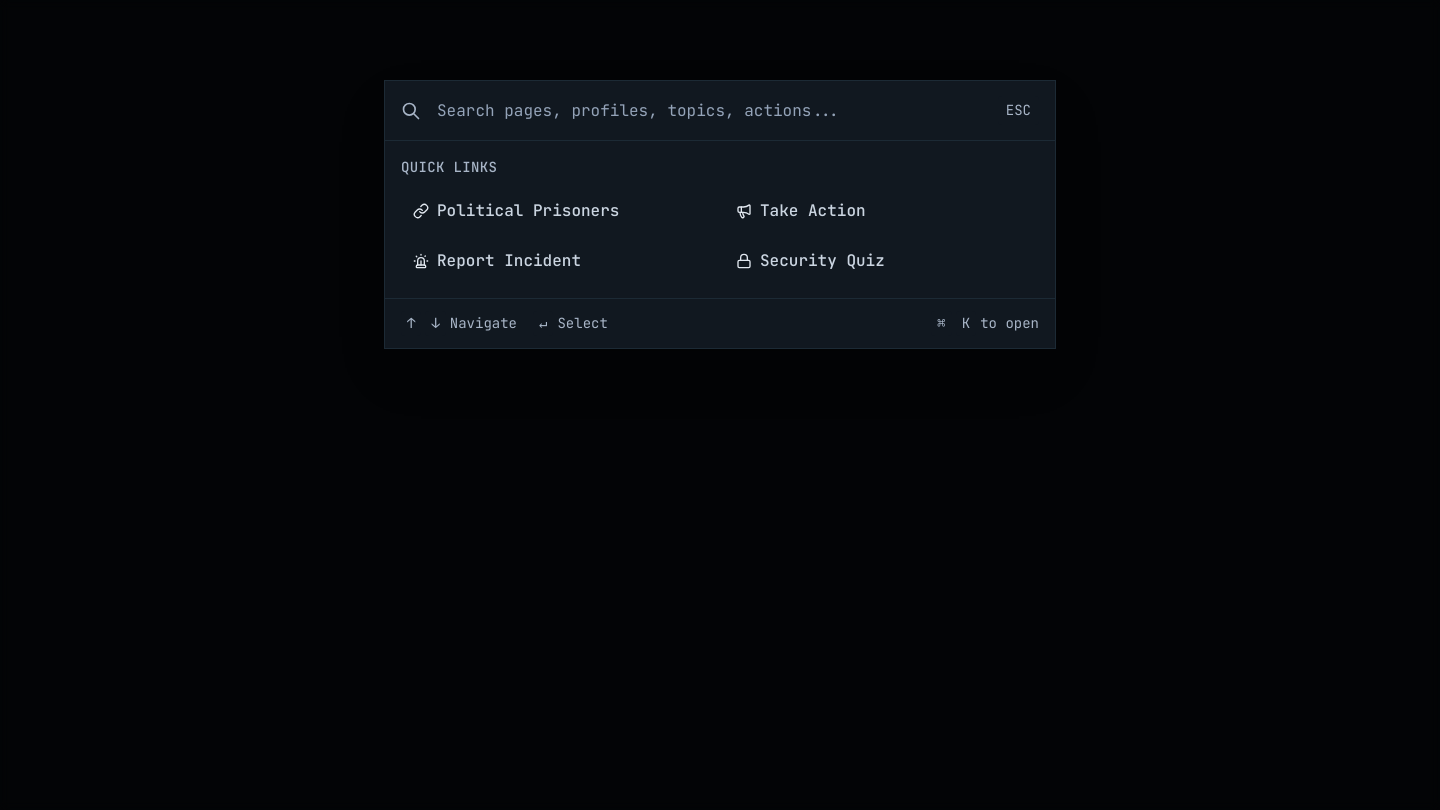
Test: GlobalSearch › returns results matching page titles
Step 1. Type "Dashboard" into the field named "Global search" → (709, 111), box [421, 81, 998, 140]
Wait 200 ms
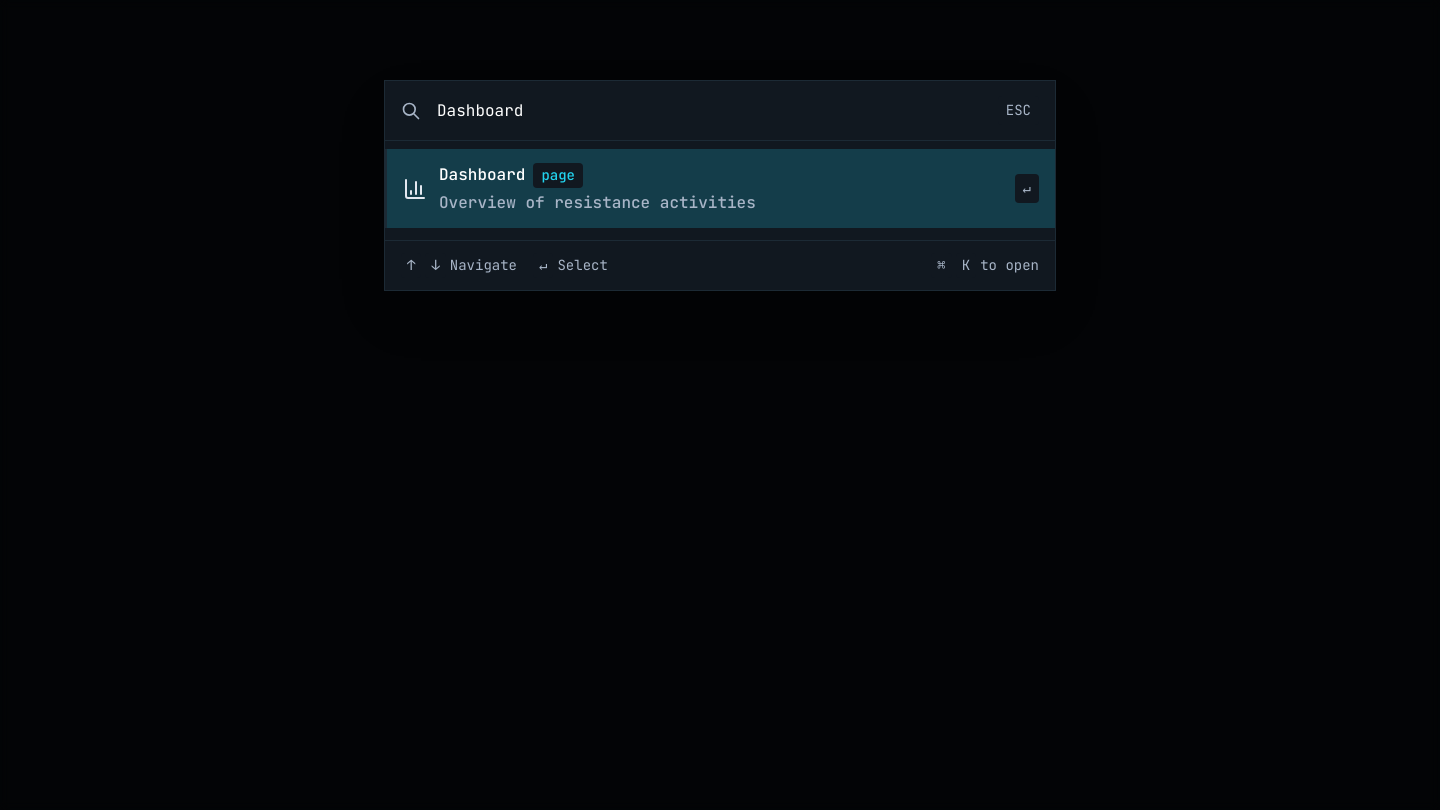
Result: the text "Dashboard" is shown at [439, 161, 525, 190]
